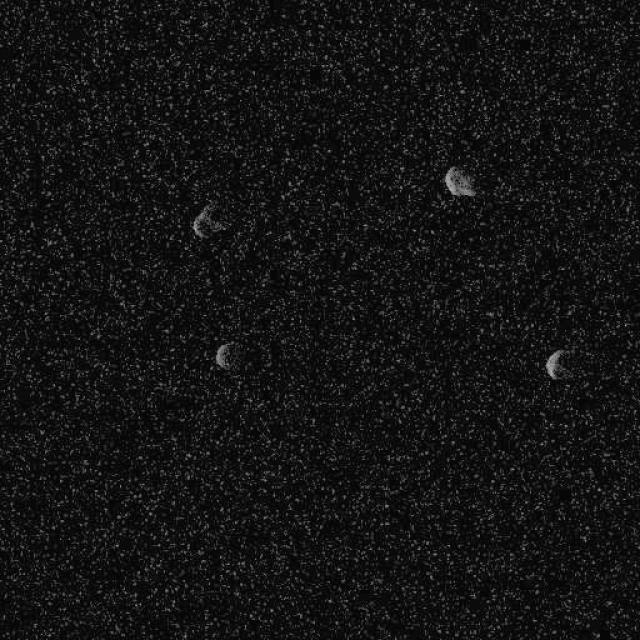D2: (190, 200, 229, 240), (442, 164, 478, 198), (544, 348, 571, 382), (214, 341, 234, 370)
